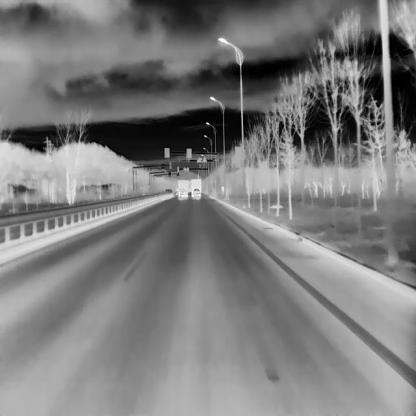car: (177, 188, 186, 198), (191, 188, 200, 198)
truck: (178, 179, 188, 196), (190, 179, 200, 196)
